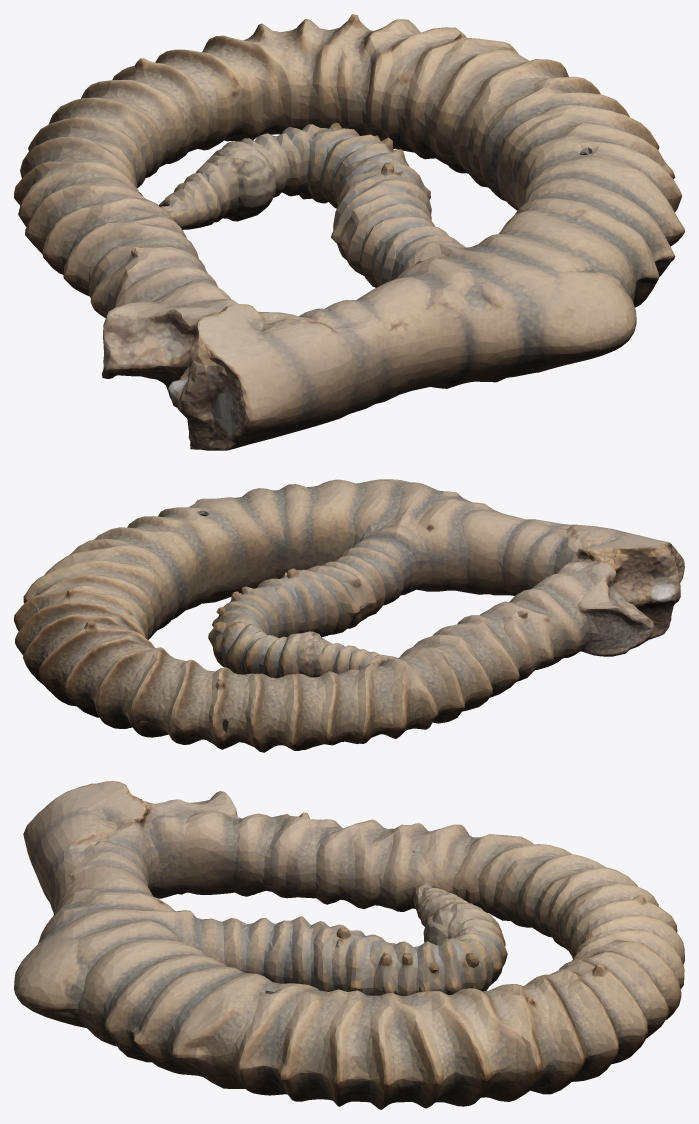
3 views of the same model, one above another, from view 1: azimuth 30°, elevation 25°; view 2: azimuth 150°, elevation 25°; view 3: azimuth 270°, elevation 25° (orthographic). The views are drawn at different scales.
Parts seen in each view (by area): view 1: world; view 2: world; view 3: world.
Part boxes in pixels (x1,y1,x2,y2): world: [14, 14, 684, 450]; world: [14, 479, 684, 752]; world: [14, 781, 684, 1109].
Bounding box in the file's own units: 0.9737 × 0.1736 × 1.
Materials: 1 (1 with a texture image).
